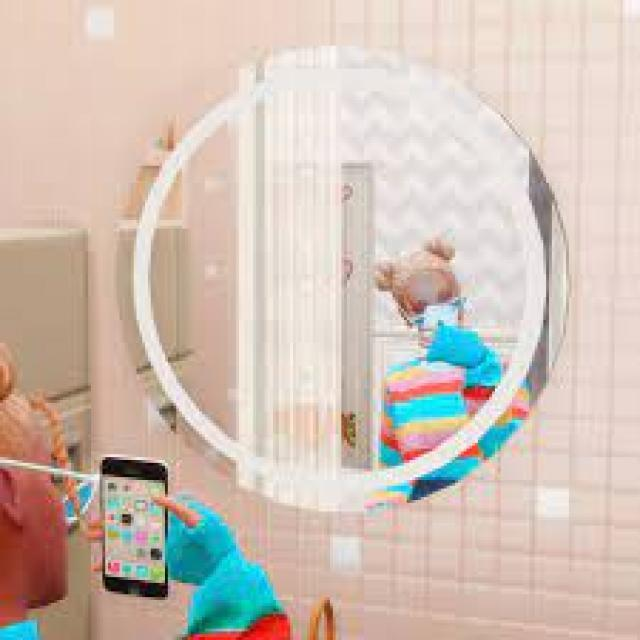Phone: (96, 449, 176, 603)
